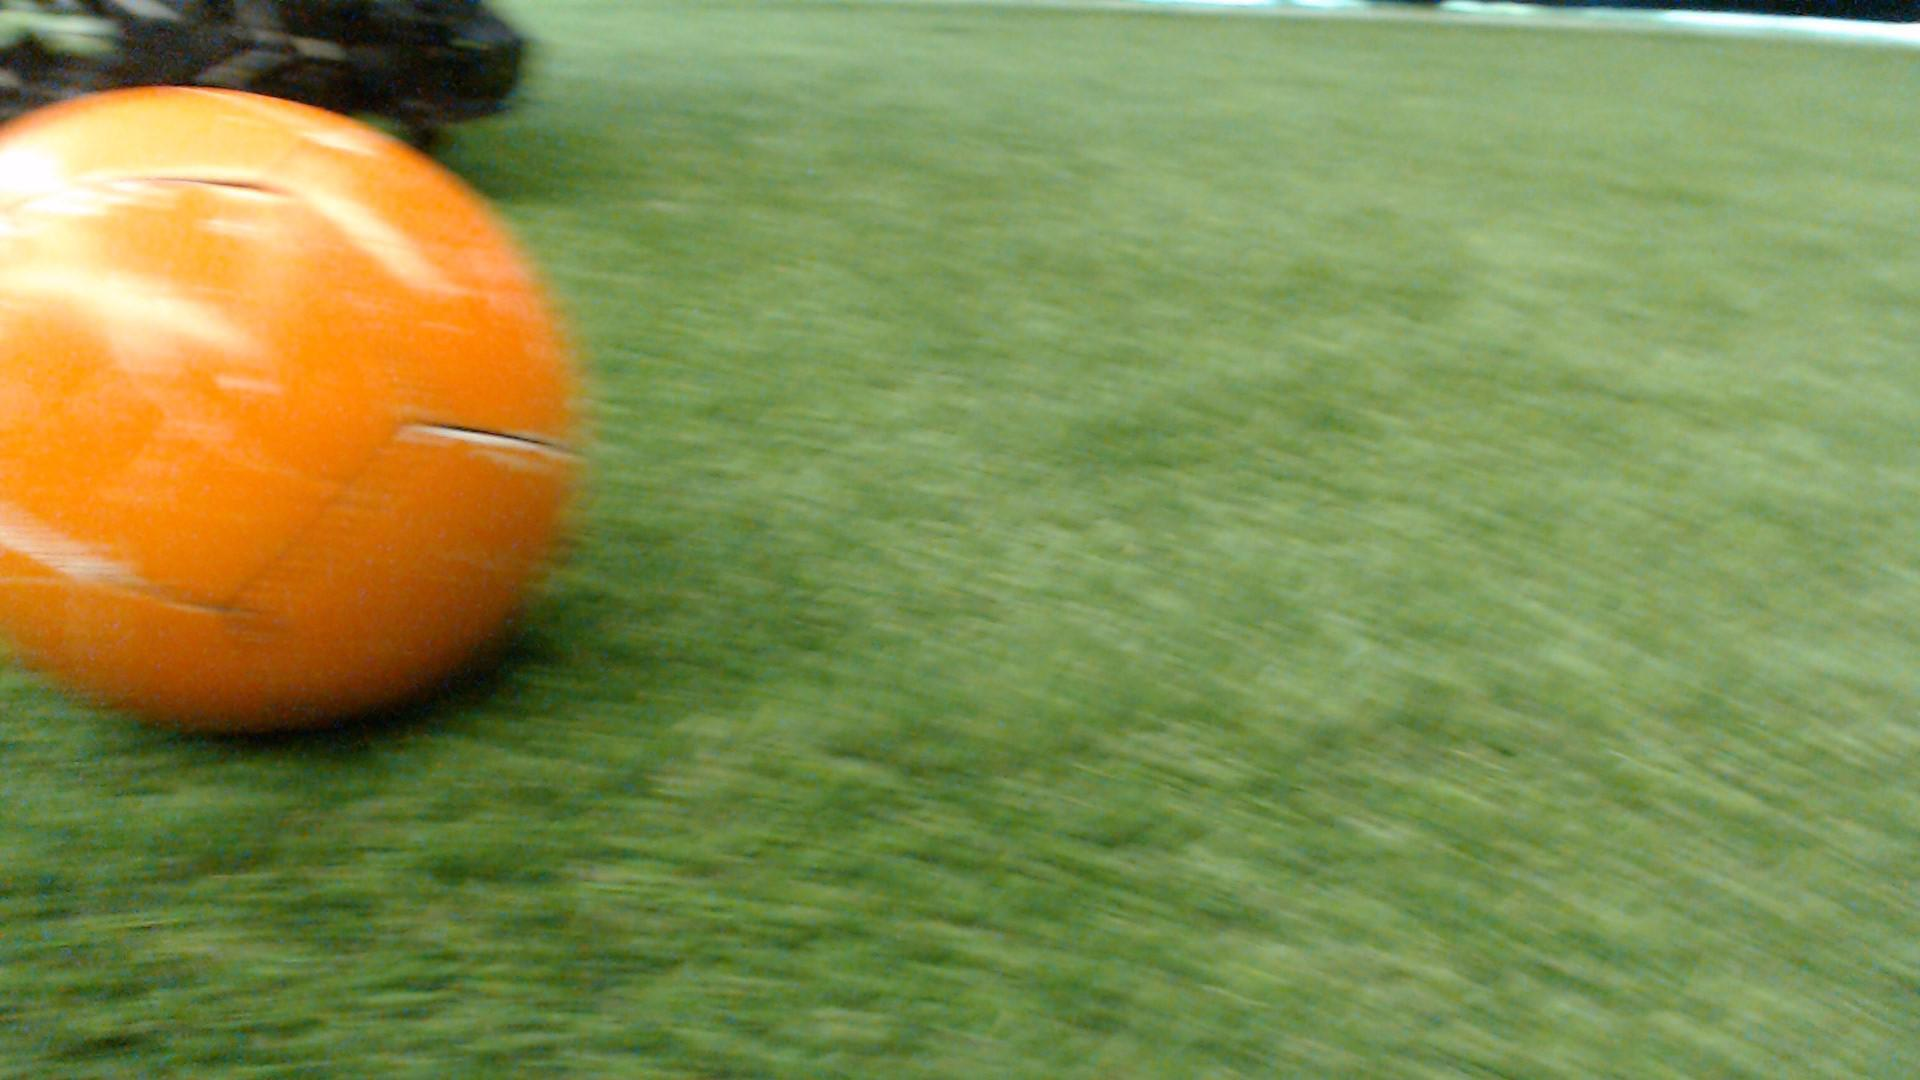bola: (0, 49, 630, 791)
